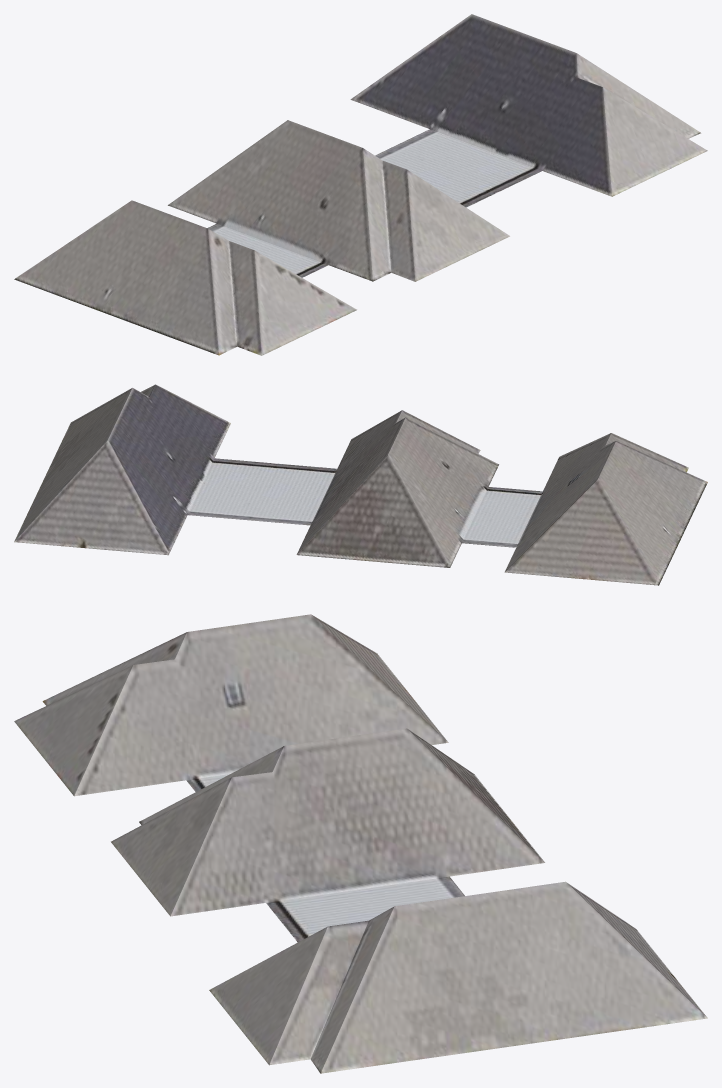
Rendered from BJ39_500_100047_0007_roof.obj.
3 renders of one model, top to bottom at view 1: azimuth 30°, elevation 25°; view 2: azimuth 150°, elevation 25°; view 3: azimuth 270°, elevation 25°, orthographic. The views are drawn at different scales.
Visible parts, largest first — view 1: BJ39_500_100047_0007_roof; view 2: BJ39_500_100047_0007_roof; view 3: BJ39_500_100047_0007_roof.
Boxes of the visible parts, bbox=[...] form: BJ39_500_100047_0007_roof: bbox=[14, 14, 707, 355]; BJ39_500_100047_0007_roof: bbox=[14, 384, 707, 585]; BJ39_500_100047_0007_roof: bbox=[14, 614, 707, 1073].
Bounding box in the file's own units: 647 × 76.71 × 452.
Materials: 1 (1 with a texture image).
